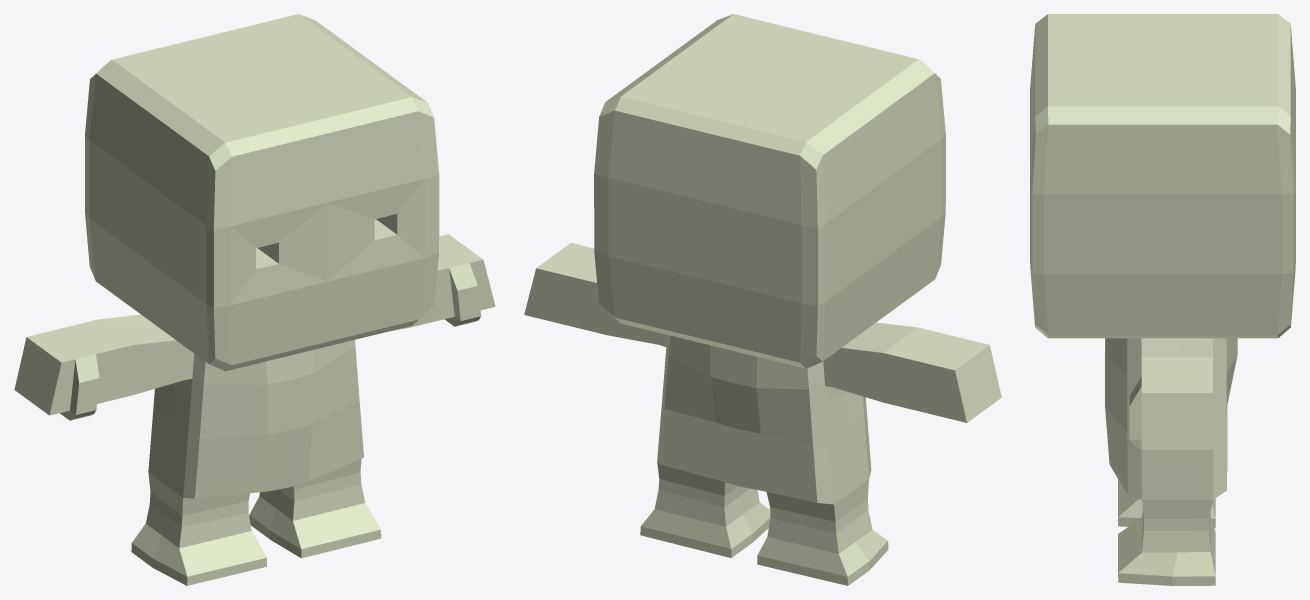
File: rock.fbx
3 renders of one model, left to right at view 1: azimuth 30°, elevation 25°; view 2: azimuth 150°, elevation 25°; view 3: azimuth 270°, elevation 25°, orthographic. The views are drawn at different scales.
Parts seen in each view (by area): view 1: Cube.001; view 2: Cube.001; view 3: Cube.001.
Boxes of the visible parts, left/top/right/bottom form: Cube.001: left=14, top=14, right=495, bottom=585; Cube.001: left=524, top=14, right=1001, bottom=585; Cube.001: left=1030, top=14, right=1295, bottom=585.
Size of the model in its own units: 467 by 468 by 238.
